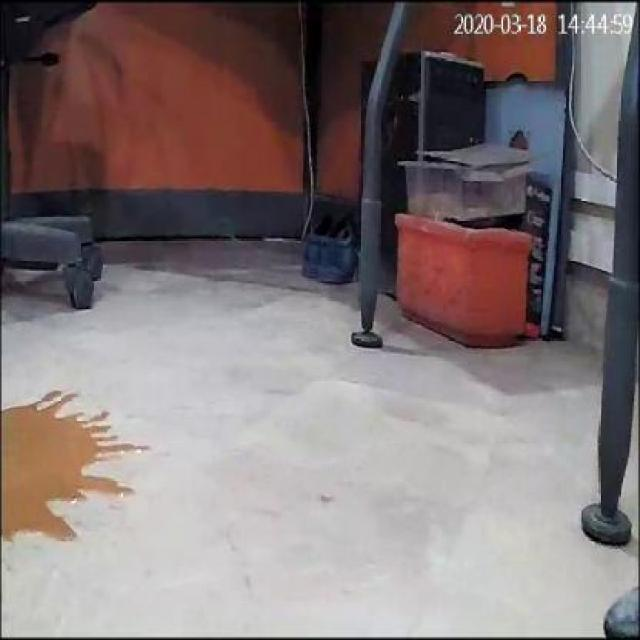spill: (2, 393, 148, 553)
